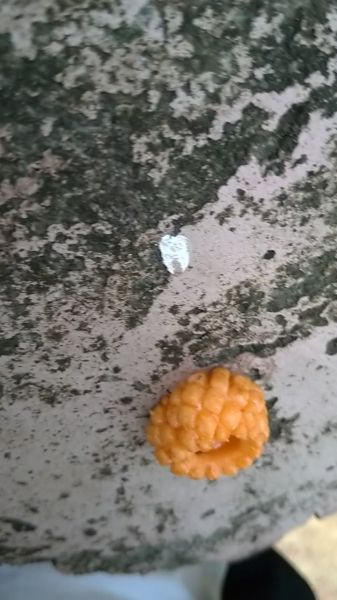eggs: (133, 355, 276, 485)
